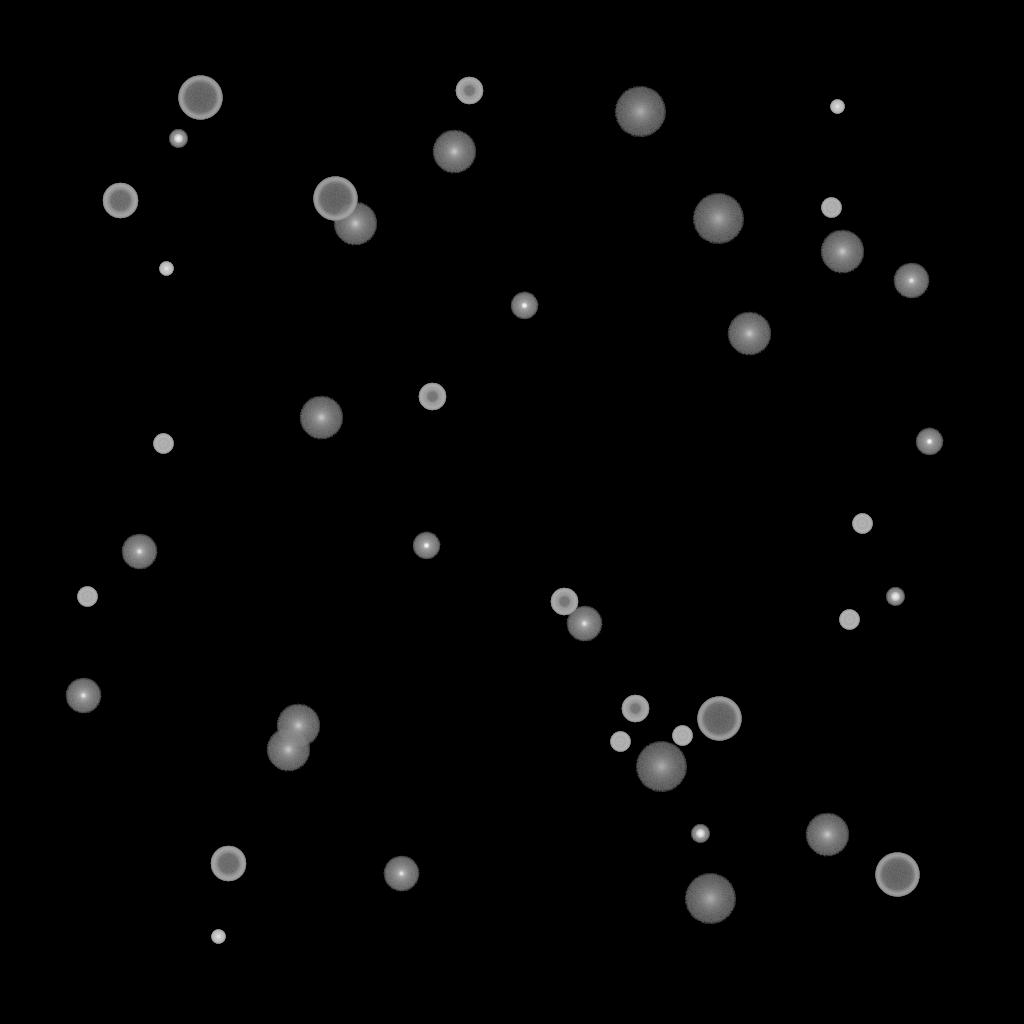depth:-10: (915, 428, 943, 456), (510, 292, 538, 320), (412, 532, 440, 560)
depth:-20: (169, 130, 187, 148), (691, 825, 709, 843), (886, 588, 904, 606)
depth:-30: (830, 100, 844, 114), (159, 262, 173, 276), (211, 930, 225, 944)
depth:-40: (610, 732, 630, 752), (672, 726, 692, 746), (77, 587, 97, 607), (821, 198, 841, 218), (153, 434, 173, 454), (839, 610, 859, 630), (852, 514, 872, 534)
depth:-50: (550, 588, 578, 616), (621, 695, 649, 723), (418, 383, 446, 411), (455, 77, 483, 105)
depth:-60: (210, 846, 246, 882), (102, 183, 138, 219)
depth:-70: (313, 177, 357, 221), (875, 853, 919, 897), (178, 76, 222, 120), (697, 697, 741, 741)
depth:0: (65, 678, 101, 714), (121, 534, 157, 570), (566, 606, 602, 642), (893, 263, 929, 299), (383, 856, 419, 892)
depth:10: (276, 704, 320, 748), (299, 396, 343, 440), (805, 813, 849, 857), (333, 202, 377, 246), (727, 312, 771, 356), (432, 130, 476, 174), (266, 728, 310, 772), (820, 230, 864, 274)
depth:20: (635, 742, 687, 792), (684, 874, 736, 924), (614, 87, 666, 137), (692, 194, 744, 244)
